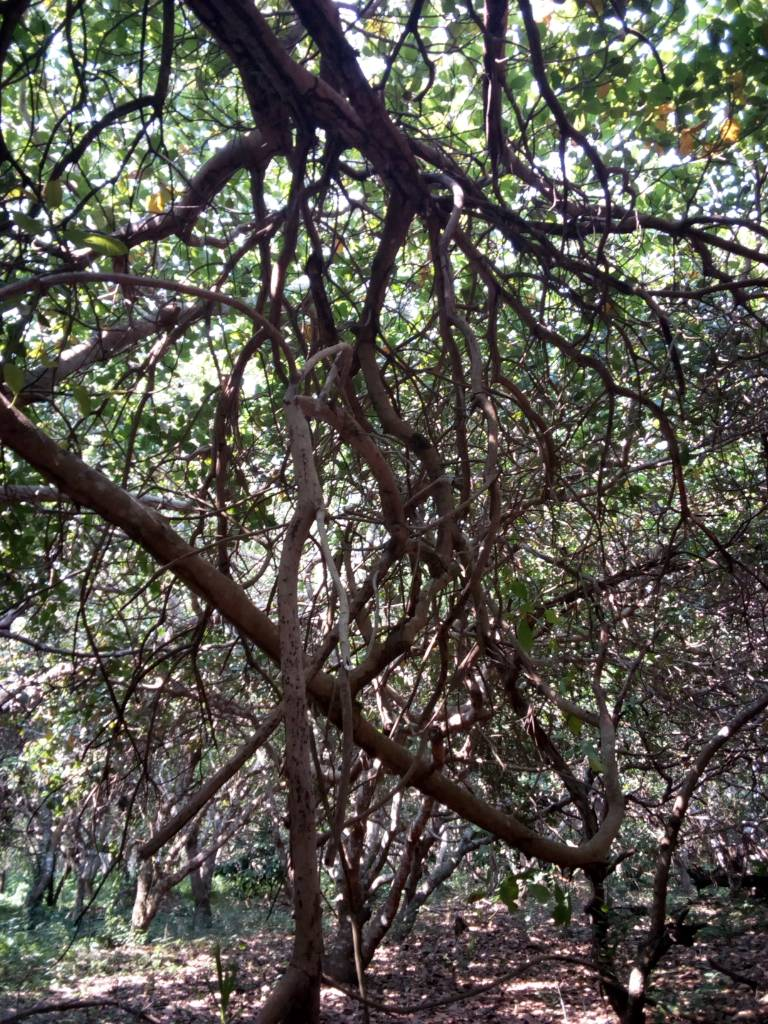Termites: (283, 467, 322, 963)
